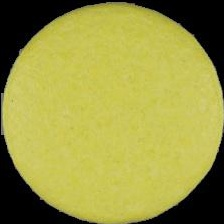68788-8911: (0, 0, 224, 224)
